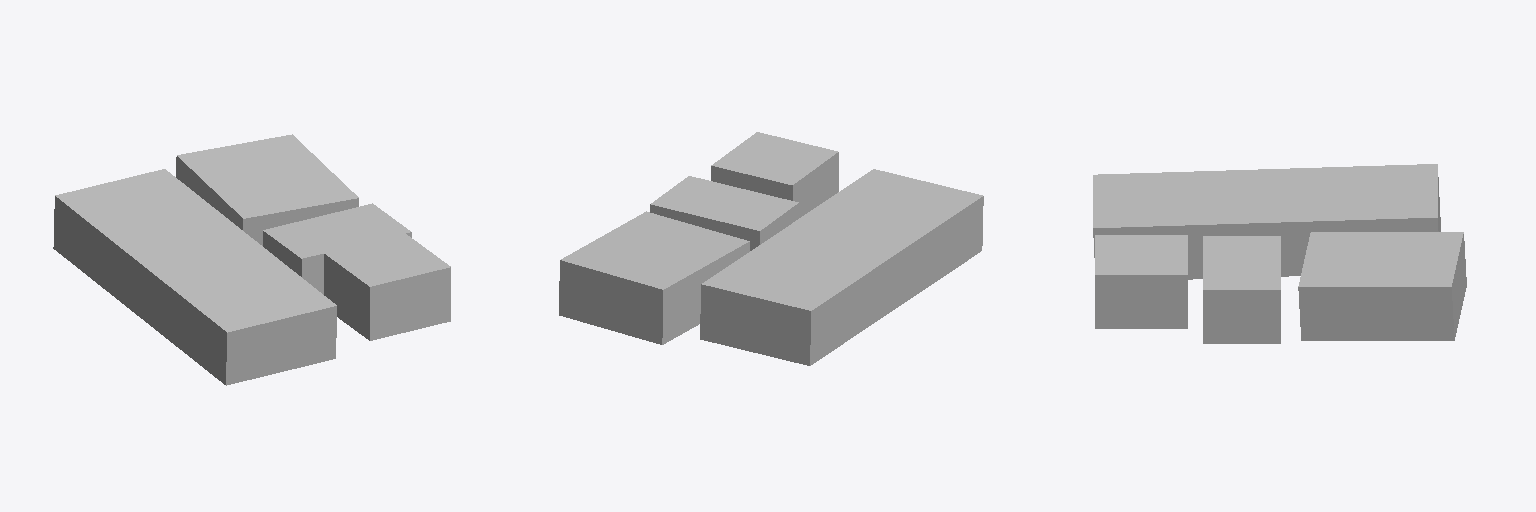
File: road05.obj
The picture shows the model from 3 angles: view 1: azimuth 30°, elevation 25°; view 2: azimuth 150°, elevation 25°; view 3: azimuth 270°, elevation 25°; orthographic projection.
Parts seen in each view (by area): view 1: road07:pCube34; view 2: road07:pCube34; view 3: road07:pCube34.
Part boxes in pixels (x1,y1,x2,y2): road07:pCube34: (53,134,450,385); road07:pCube34: (559,132,983,365); road07:pCube34: (1093,164,1466,343).
Size of the model in its own units: 12.27 by 3.12 by 16.26.